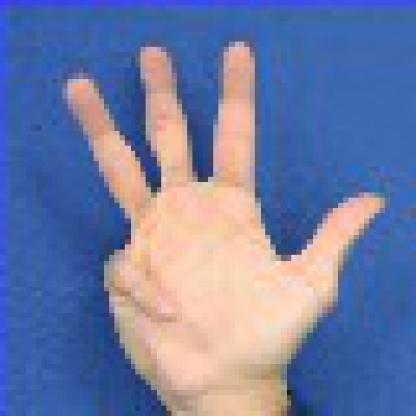nine: (41, 26, 400, 411)
